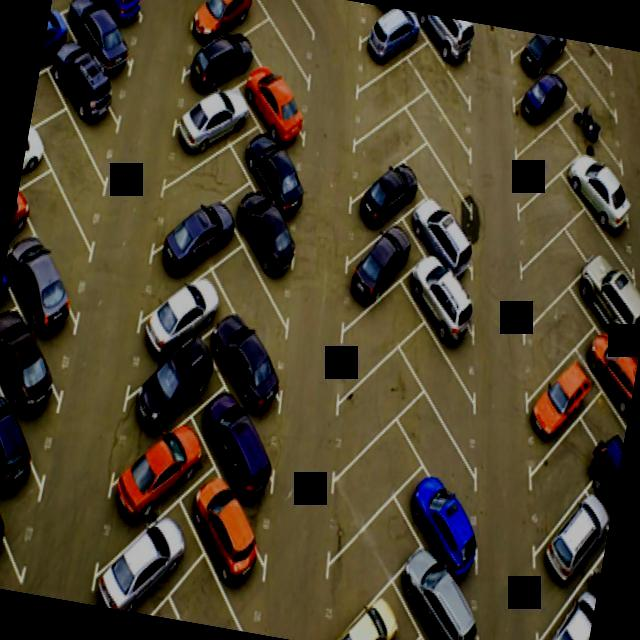car: (189, 384, 285, 518), (0, 228, 87, 374), (110, 405, 199, 542), (0, 302, 77, 452), (392, 461, 484, 586), (182, 472, 271, 600), (42, 33, 126, 157), (198, 307, 288, 422), (399, 247, 479, 372), (536, 485, 608, 623), (96, 507, 186, 612), (136, 262, 219, 375), (394, 545, 487, 640), (132, 329, 210, 442), (524, 342, 590, 471), (572, 305, 640, 419), (54, 0, 137, 93), (573, 252, 640, 361), (152, 194, 231, 286), (172, 76, 242, 174), (0, 391, 50, 527), (241, 126, 305, 226), (343, 220, 407, 320), (247, 58, 310, 158), (235, 185, 298, 282), (350, 155, 415, 249), (407, 196, 478, 279), (564, 149, 628, 237), (184, 26, 252, 102), (532, 566, 600, 640), (355, 3, 416, 82), (558, 96, 623, 166), (413, 14, 474, 82), (514, 74, 568, 148), (582, 450, 622, 546), (508, 30, 560, 101), (185, 0, 255, 52), (0, 469, 30, 582), (75, 0, 146, 42)
free: (391, 378, 491, 524), (321, 481, 415, 636), (8, 158, 102, 308), (322, 410, 412, 565), (329, 334, 422, 478), (396, 316, 488, 442), (28, 104, 111, 230), (149, 137, 241, 242), (522, 414, 593, 550), (337, 272, 410, 400), (520, 281, 585, 409), (510, 107, 578, 215), (220, 250, 292, 346), (408, 88, 478, 185), (404, 143, 480, 231), (511, 161, 576, 263), (566, 198, 636, 290), (246, 12, 313, 106), (554, 54, 624, 141), (349, 55, 416, 144), (350, 102, 414, 194), (520, 214, 578, 314), (406, 42, 474, 125), (576, 379, 634, 474), (249, 0, 314, 58), (556, 38, 618, 96)
